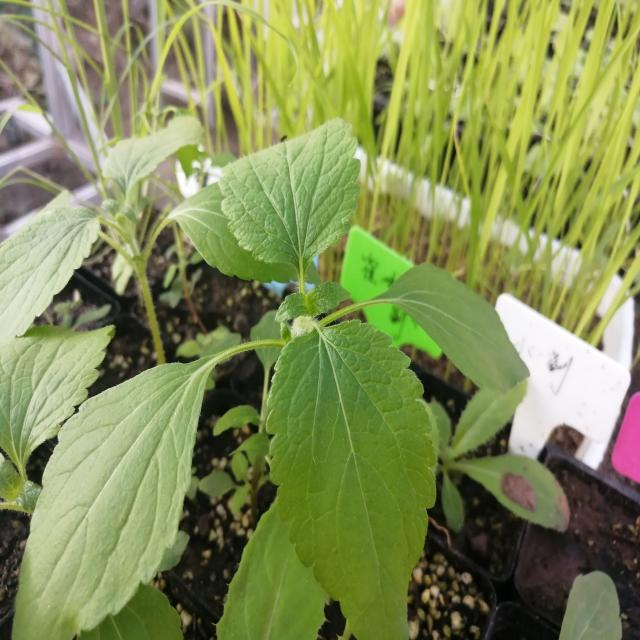billygoat_weed: (46, 118, 456, 610)
